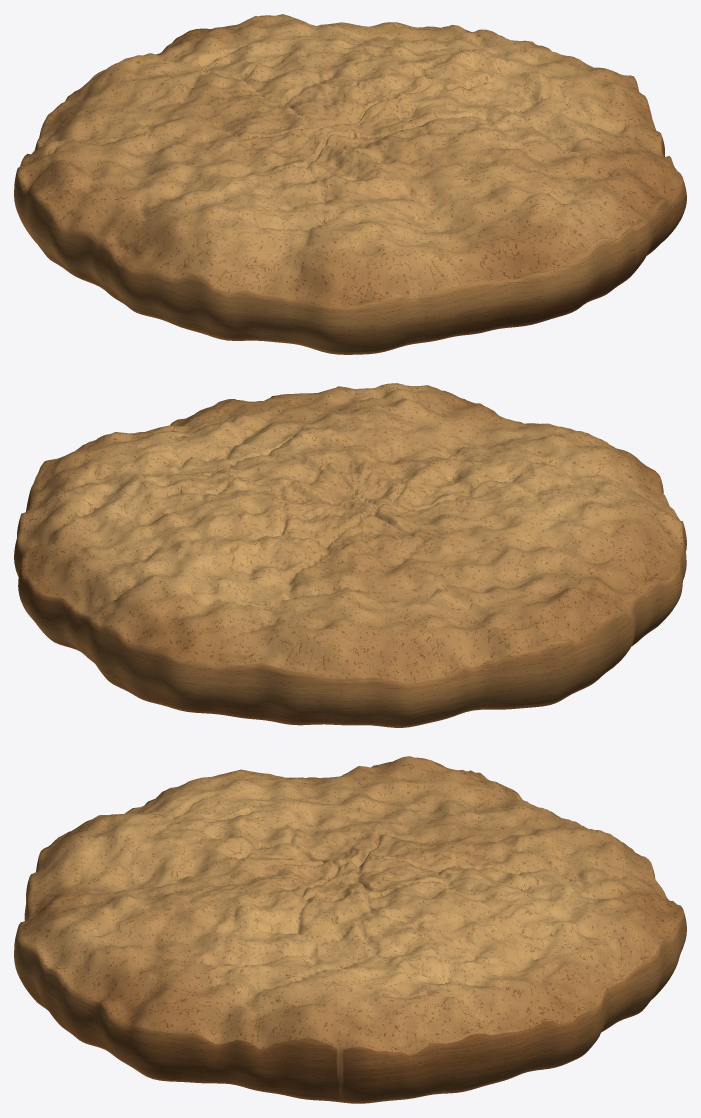
Rendered from vanilla.glb.
3 views of the same model, one above another, from view 1: azimuth 30°, elevation 25°; view 2: azimuth 150°, elevation 25°; view 3: azimuth 270°, elevation 25° (orthographic). The views are drawn at different scales.
Visible parts, largest first — view 1: Builder dough | vanilla; view 2: Builder dough | vanilla; view 3: Builder dough | vanilla.
Part boxes in pixels (bbox=[...]): Builder dough | vanilla: bbox=[14, 14, 686, 354]; Builder dough | vanilla: bbox=[14, 383, 686, 727]; Builder dough | vanilla: bbox=[14, 756, 686, 1103].
Bounding box in the file's own units: 4.99 × 0.8773 × 4.98.
2 materials, 2 textured.
